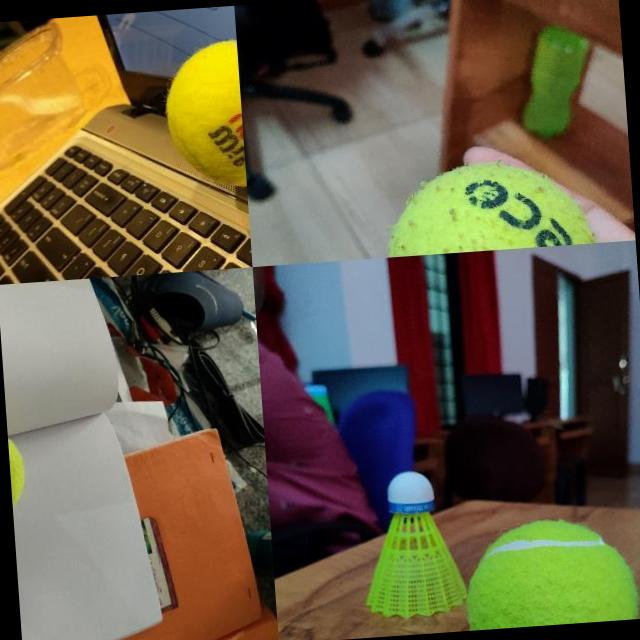Tennis Ball: (378, 154, 602, 256), (462, 514, 640, 630), (160, 37, 247, 192)
